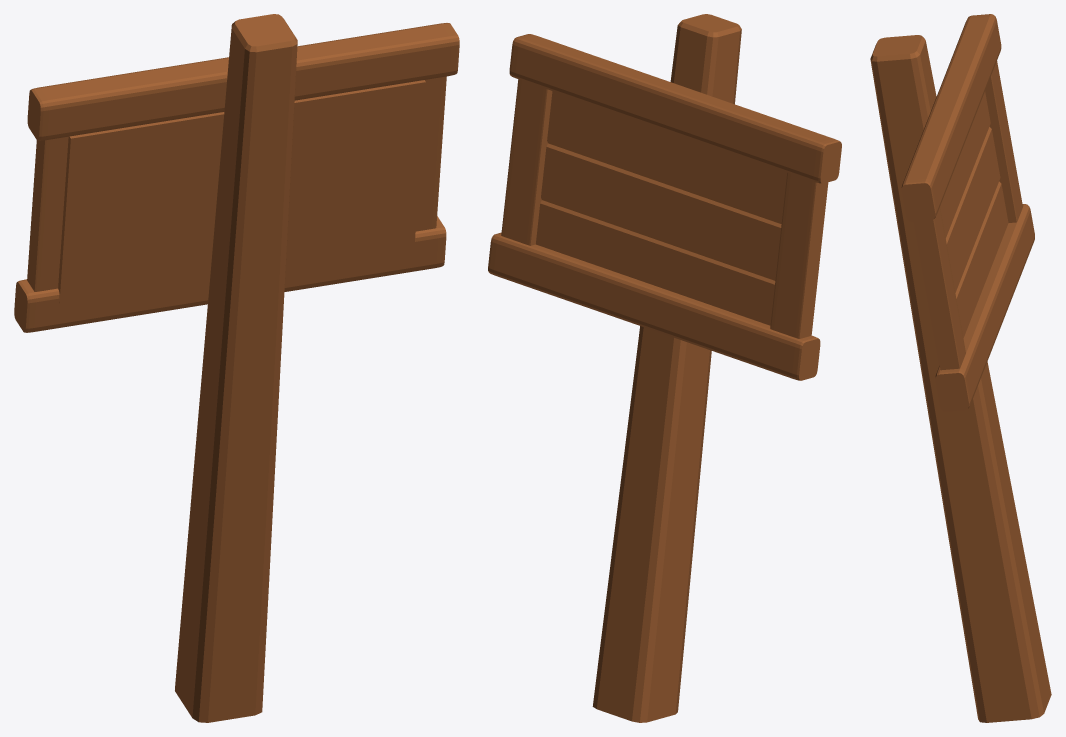
Rendered from low_poly_sign_board__stylized_wooden_sign.glb.
3 renders of one model, left to right at view 1: azimuth 30°, elevation 25°; view 2: azimuth 150°, elevation 25°; view 3: azimuth 270°, elevation 25°, orthographic. The views are drawn at different scales.
Parts seen in each view (by area): view 1: Cube.002; view 2: Cube.002; view 3: Cube.002.
Part boxes in pixels (box(x1,y1,x2,y2)): Cube.002: box(14, 14, 459, 722); Cube.002: box(488, 14, 841, 722); Cube.002: box(870, 14, 1051, 722).
Bounding box in the file's own units: 2.07 × 3.68 × 0.9127.
